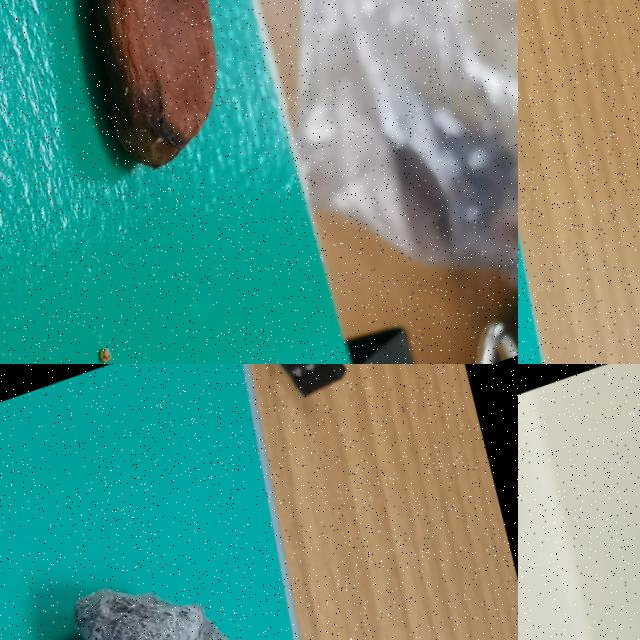Agglomerated_cocoabeans: (0, 485, 305, 639)
Fine_cocoabeans: (518, 26, 558, 363)
Flat_cocoabeans: (0, 0, 305, 249), (518, 494, 639, 639)
